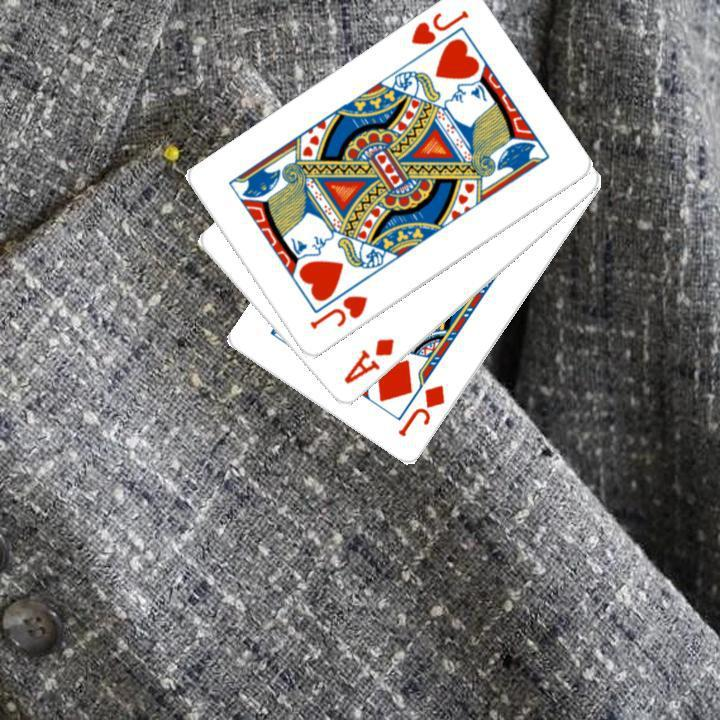A: (339, 334, 397, 387)
J: (393, 381, 447, 440), (406, 6, 471, 48), (305, 291, 370, 332)
